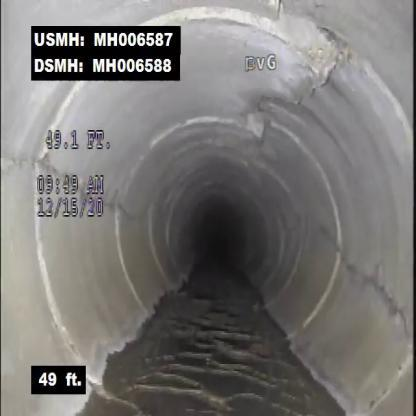Buckling: (265, 8, 369, 112)
